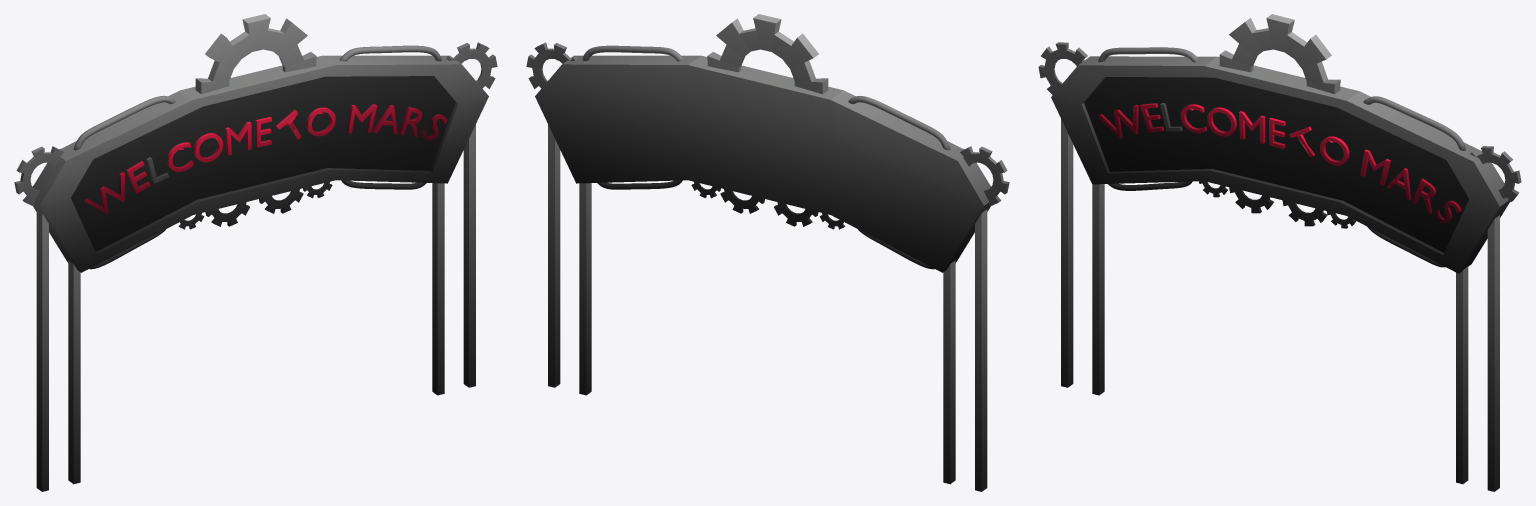
File: SM_Env_Landmark_Sign.fbx
3 views of the same model, side by side, from view 1: azimuth 30°, elevation 25°; view 2: azimuth 150°, elevation 25°; view 3: azimuth 330°, elevation 25° (orthographic).
Parts seen in each view (by area): view 1: Cube.001, Cube, Cylinder.001, Text, BezierCurve.001; view 2: Cube.001, Cube, Cylinder.001, BezierCurve.001; view 3: Cube.001, Cube, Cylinder.001, Text, BezierCurve.001.
Part boxes in pixels (x1=…): Cube.001: x1=33, y1=55, x2=488, y2=272; Cube: x1=36, y1=124, x2=475, y2=491; Cylinder.001: x1=14, y1=14, x2=497, y2=229; Text: x1=84, y1=104, x2=447, y2=214; BezierCurve.001: x1=73, y1=45, x2=441, y2=269; Cube.001: x1=535, y1=55, x2=990, y2=272; Cube: x1=548, y1=124, x2=987, y2=491; Cylinder.001: x1=526, y1=14, x2=1009, y2=229; BezierCurve.001: x1=582, y1=45, x2=950, y2=269; Cube.001: x1=1051, y1=56, x2=1509, y2=273; Cube: x1=1061, y1=119, x2=1499, y2=491; Cylinder.001: x1=1038, y1=14, x2=1521, y2=228; Text: x1=1098, y1=103, x2=1461, y2=223; BezierCurve.001: x1=1097, y1=47, x2=1465, y2=267.
Size of the model in its own units: 1658 by 1379 by 88.34.
5 materials, 5 textured.
